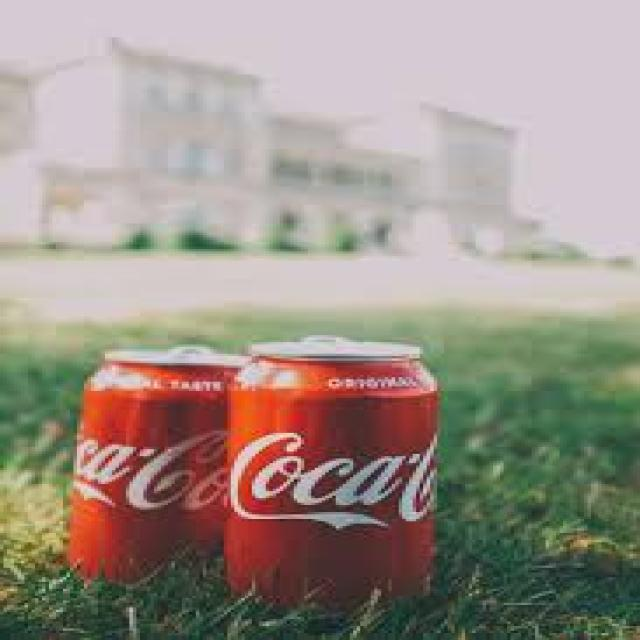Cans: (220, 333, 448, 607), (60, 342, 242, 575)
